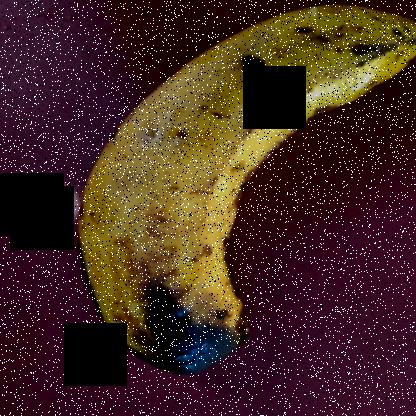rotten: (54, 0, 415, 384)
